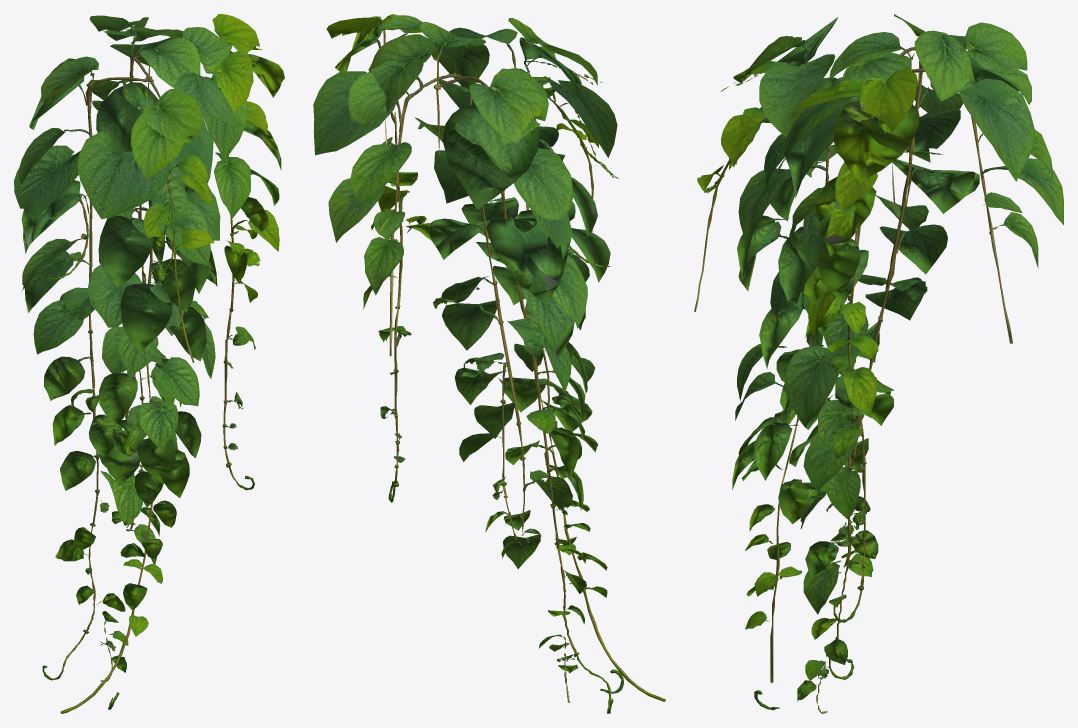
File: vine2.glb
3 views of the same model, side by side, from view 1: azimuth 30°, elevation 25°; view 2: azimuth 150°, elevation 25°; view 3: azimuth 270°, elevation 25° (orthographic). The views are drawn at different scales.
Parts seen in each view (by area): view 1: Object_4; view 2: Object_4; view 3: Object_4.
Boxes of the visible parts, x1,y1,x2,y2 form: Object_4: (14,14,284,713); Object_4: (313,14,665,713); Object_4: (694,14,1063,713).
Size of the model in its own units: 0.4305 by 1 by 0.456.
1 material, 1 textured.
